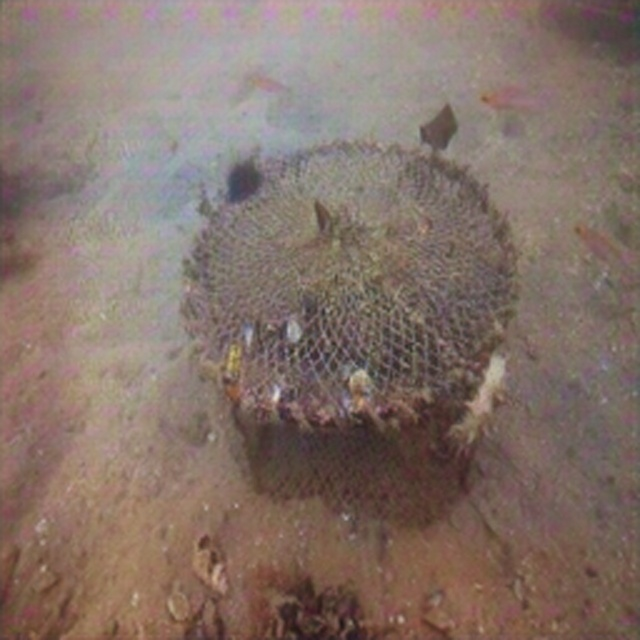mine: (183, 135, 519, 527)
